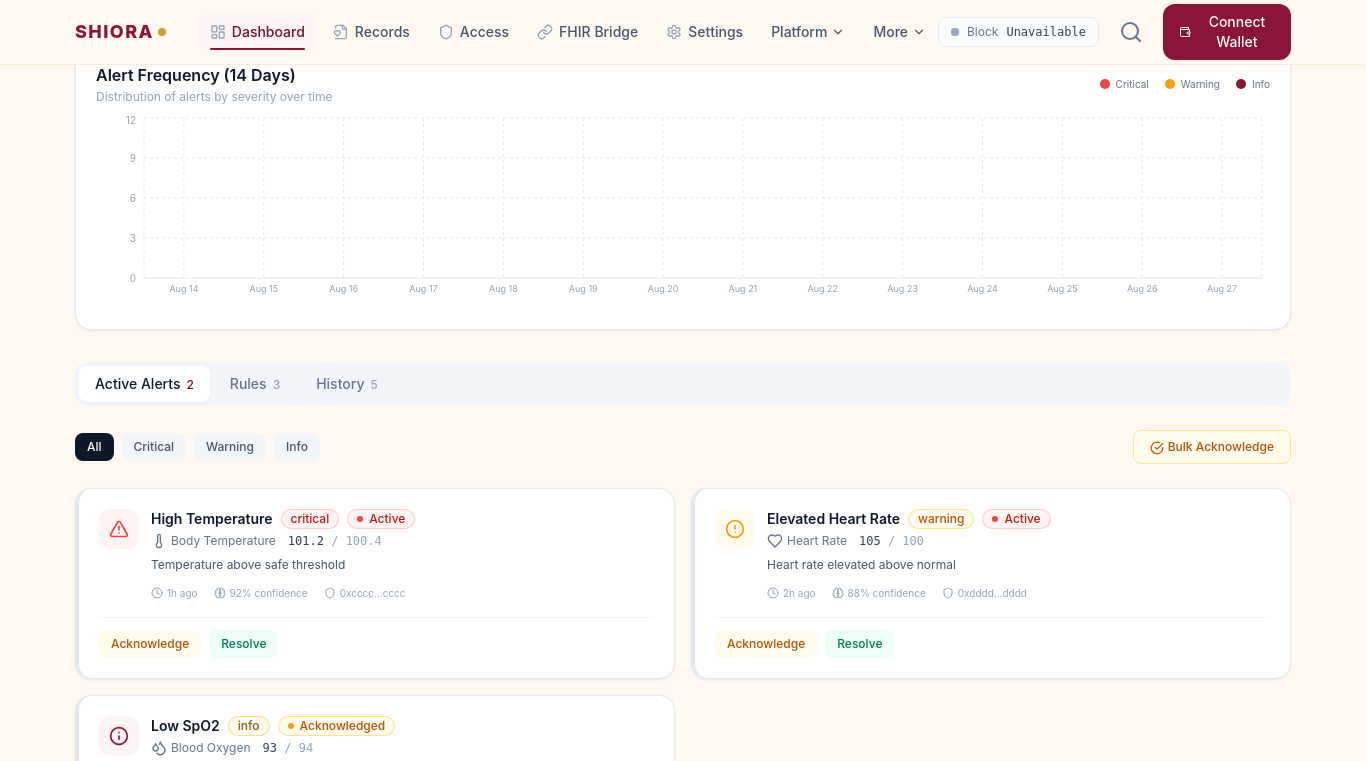
Test: AlertsPage › shows TEE-Verified info card on History tab
The image size is (1366, 761).
(page scrolled)
Click the tab "History5". click: (347, 384)
box: [300,366,394,402]
(page scrolled)
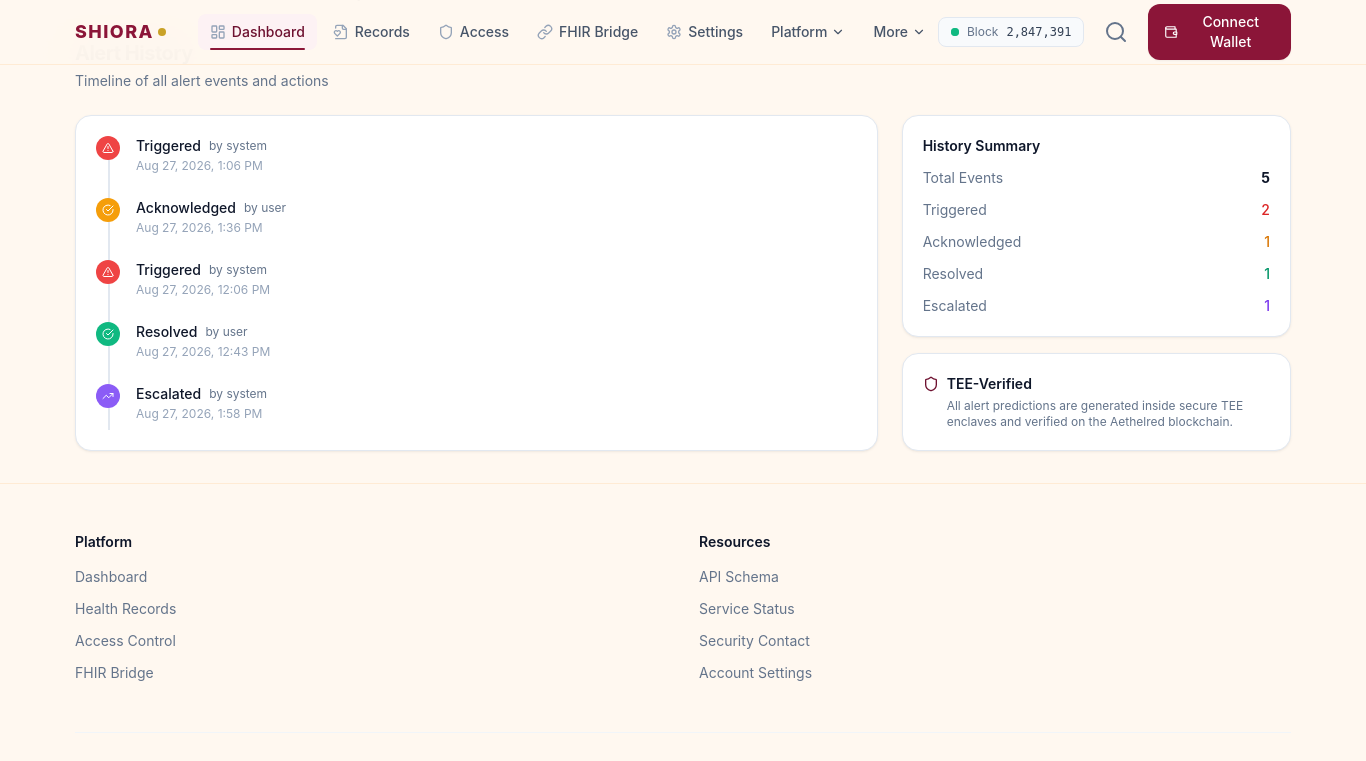
Expected: the heading "TEE-Verified" is shown, [947,375,1032,392]
